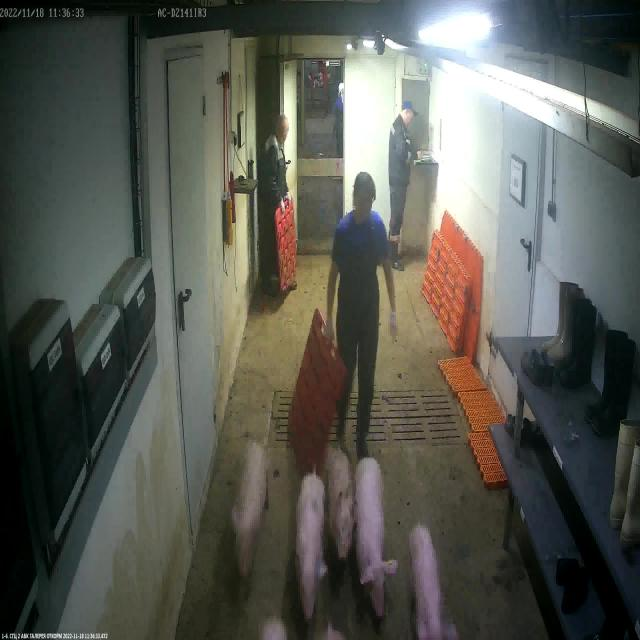pig: (357, 459, 395, 620), (410, 525, 456, 640), (235, 444, 268, 584), (296, 474, 327, 622), (329, 450, 356, 563)
